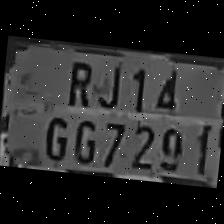1: (120, 58, 152, 113), (186, 119, 216, 176)
2: (122, 117, 156, 173)
7: (95, 114, 127, 170)
9: (154, 120, 188, 168)
G: (39, 110, 71, 166), (68, 113, 99, 168)
J: (91, 55, 127, 110)
R: (60, 54, 96, 112)
